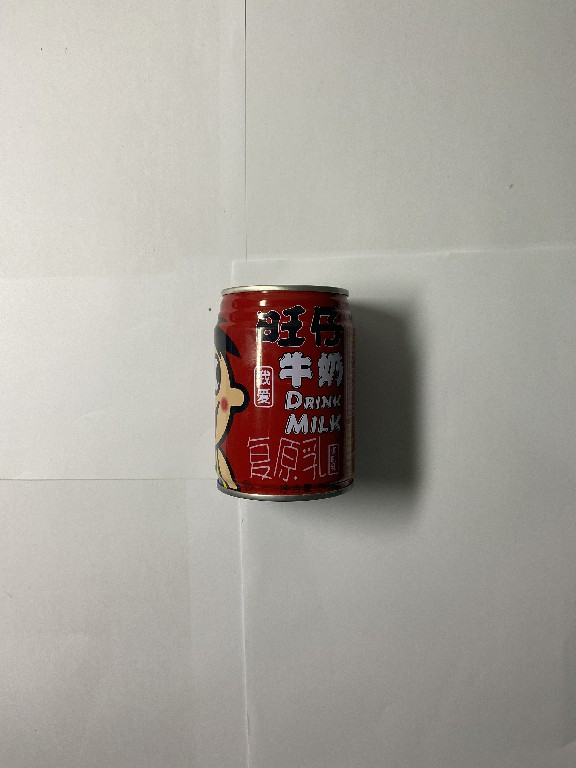can: (209, 280, 355, 506)
